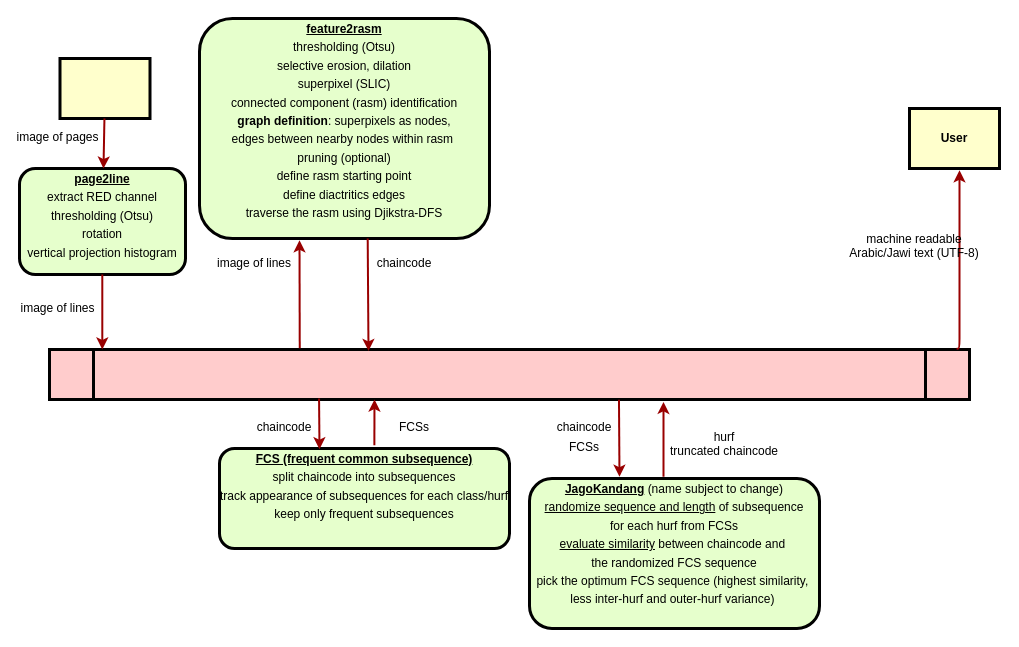
Some shapes in this 1019 by 647 pixel diagram are drawn without their labels. Here are the shapes that lost their labels. From the top down, the centre of each, then its label:
At point 104,88: "Kitab Syair Perahu".
At point 509,374: "OCR System for Jawi Script".
